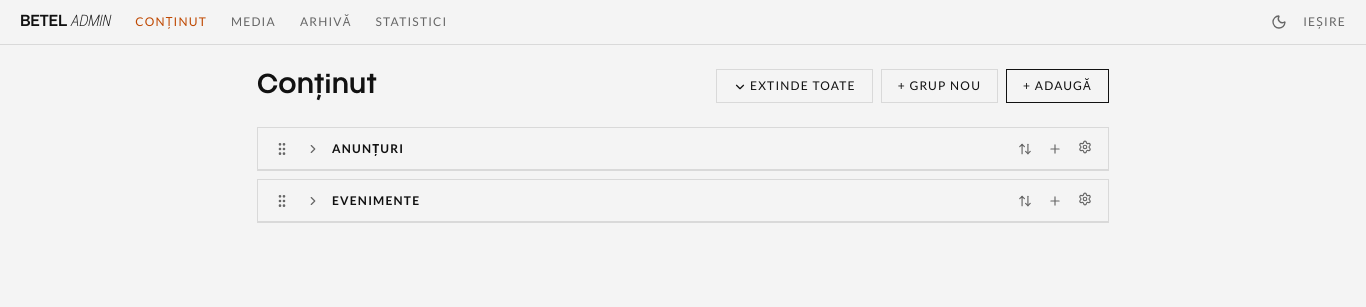
Test: Expand a single group › re-collapses when toggled again
Click the button with test id "collapse-toggle-g1" at [313, 149], box left=302, top=138, right=324, bottom=160
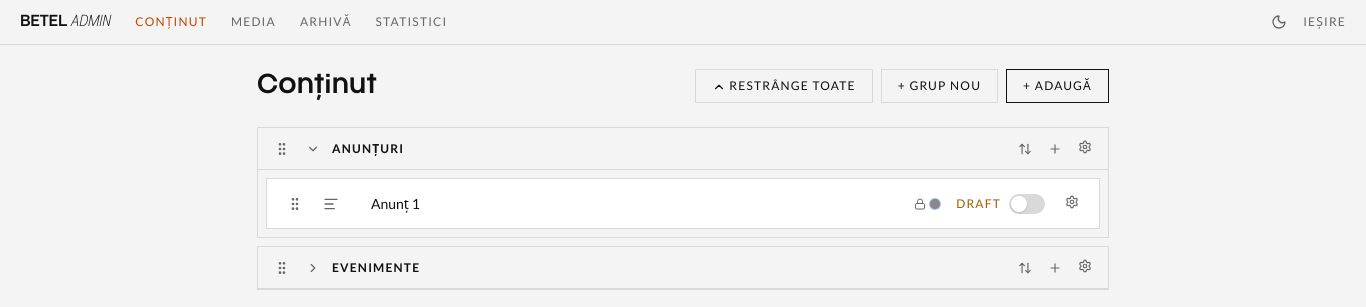
Check: the list with test id "container-g1" is shown, box left=258, top=170, right=1108, bottom=237
Click the button with test id "collapse-toggle-g1" at [313, 149], box left=302, top=138, right=324, bottom=160
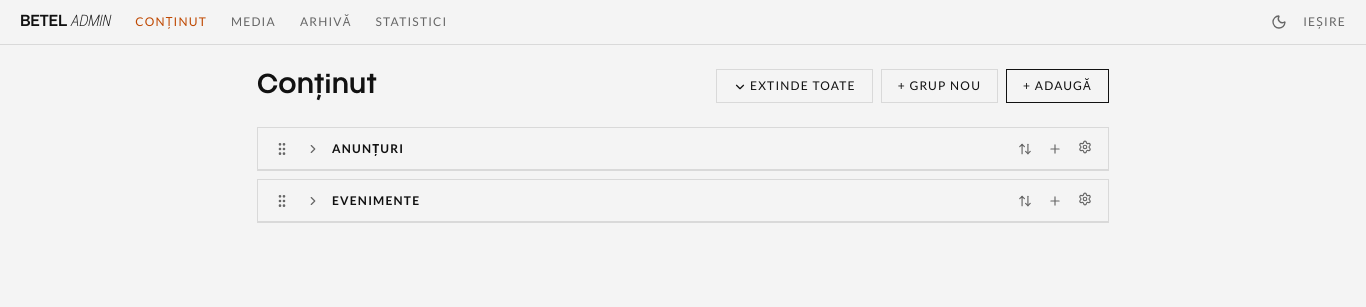
Check: the list with test id "container-g1" is gone
Check: the list item with test id "content-row-i1" is gone
